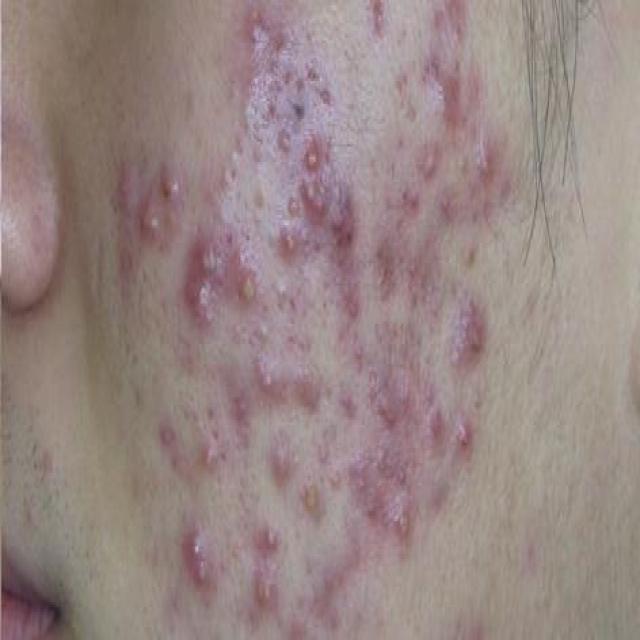comedone: (271, 266, 294, 321)
crystanlline: (354, 382, 413, 487), (186, 222, 230, 346), (304, 187, 361, 263), (446, 294, 488, 389), (180, 521, 224, 597), (235, 12, 278, 68), (137, 205, 167, 258), (454, 415, 480, 461)
papule: (424, 13, 463, 118), (410, 139, 448, 196), (152, 170, 189, 213), (422, 394, 446, 446)
pustule: (195, 428, 233, 478), (392, 498, 415, 577), (253, 574, 280, 640), (470, 136, 498, 184), (274, 218, 302, 260), (237, 256, 255, 318), (262, 504, 283, 556), (255, 359, 281, 400), (301, 134, 324, 180), (300, 478, 318, 526)
